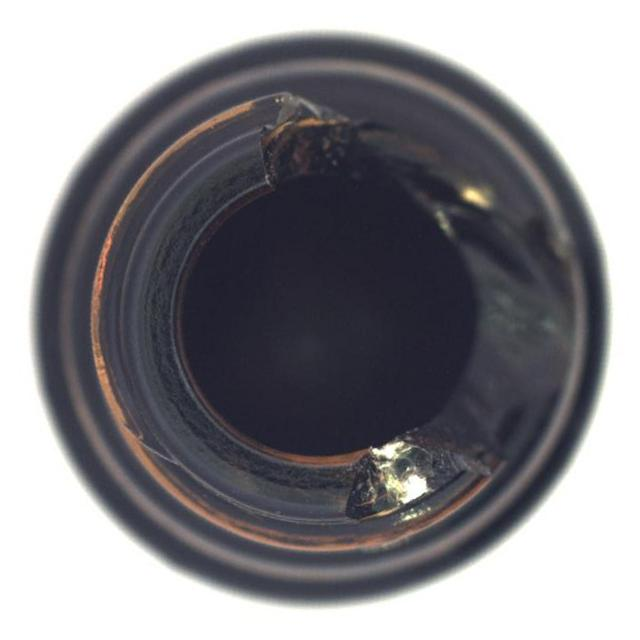bad-broken_large: (29, 28, 612, 610)
